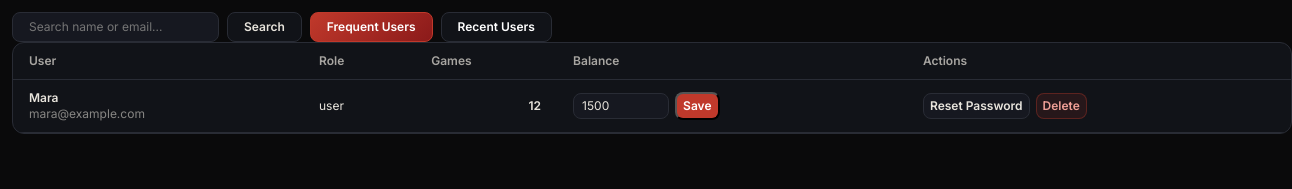
it: AdminUserManagement › shows an update error and keeps the entered balance
Expected: the text "Mara" is shown, 29,90 -> 58,105
Replace the text in the number field with "900" at (621, 106), box 573,93 -> 669,119
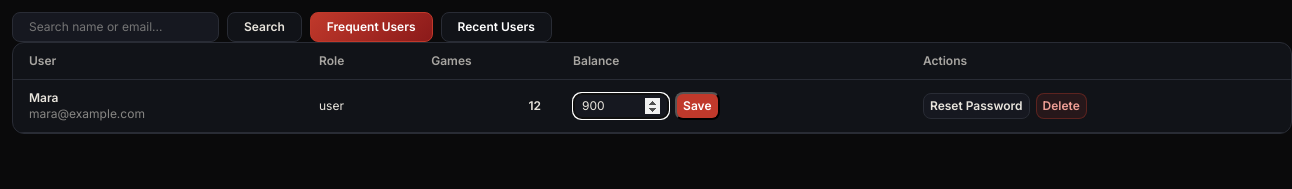
Click the button "Save" at (697, 106), box 675,92 -> 720,120
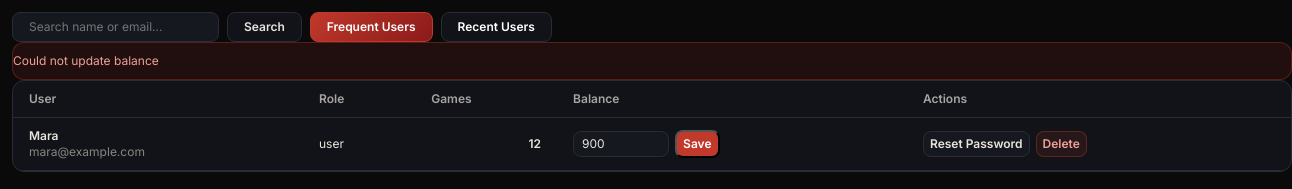
Result: the message reads "Could not update balance" at 13,53 -> 159,68
